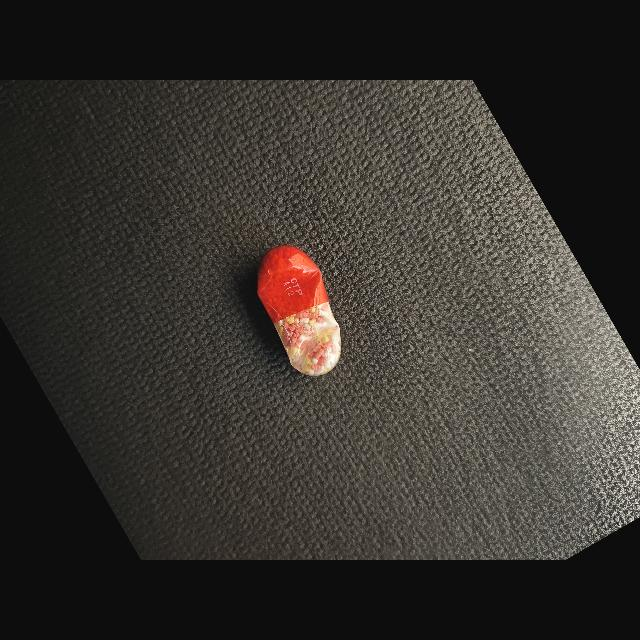Defective Capsule: (257, 245, 341, 376)
